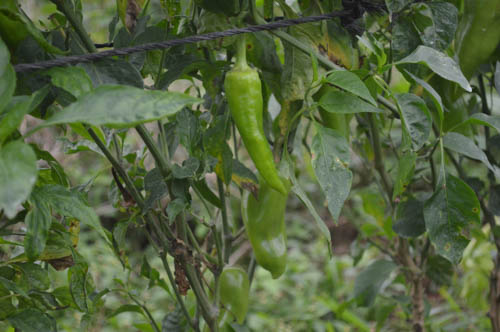ChiliPepper: (229, 72, 287, 193), (246, 166, 289, 277), (459, 4, 500, 88), (317, 80, 348, 136), (217, 267, 248, 321)
